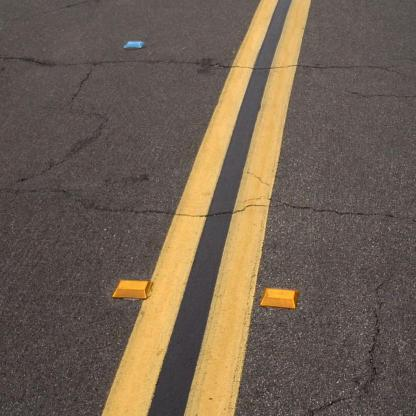other: (266, 280, 299, 311), (118, 278, 151, 301)
